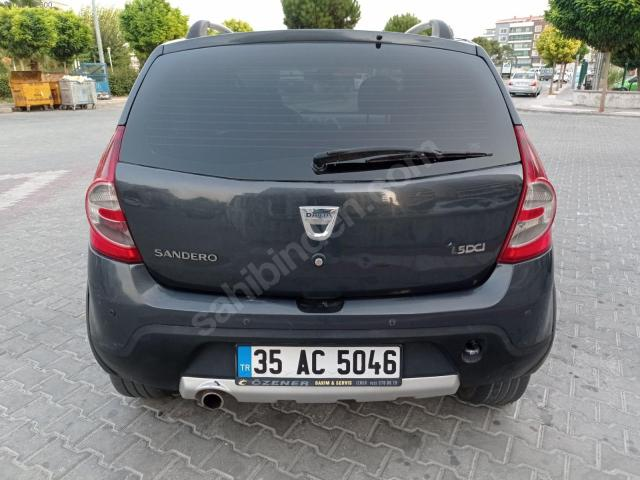plaka: (236, 346, 401, 386)
